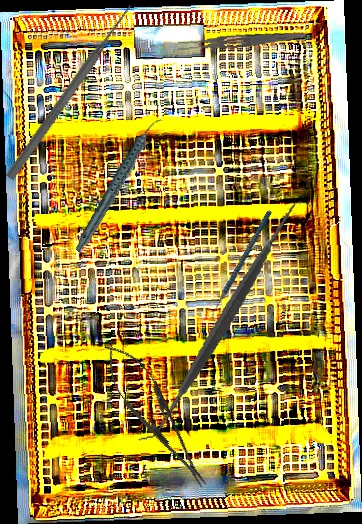Chopper: (180, 209, 303, 327)
Dressing Forceps: (175, 26, 307, 54)
Handpiece: (50, 115, 187, 254)
Needle Holder: (90, 333, 221, 498)
Pusher: (4, 1, 136, 183)
Spatula Surgical: (104, 200, 344, 442)
